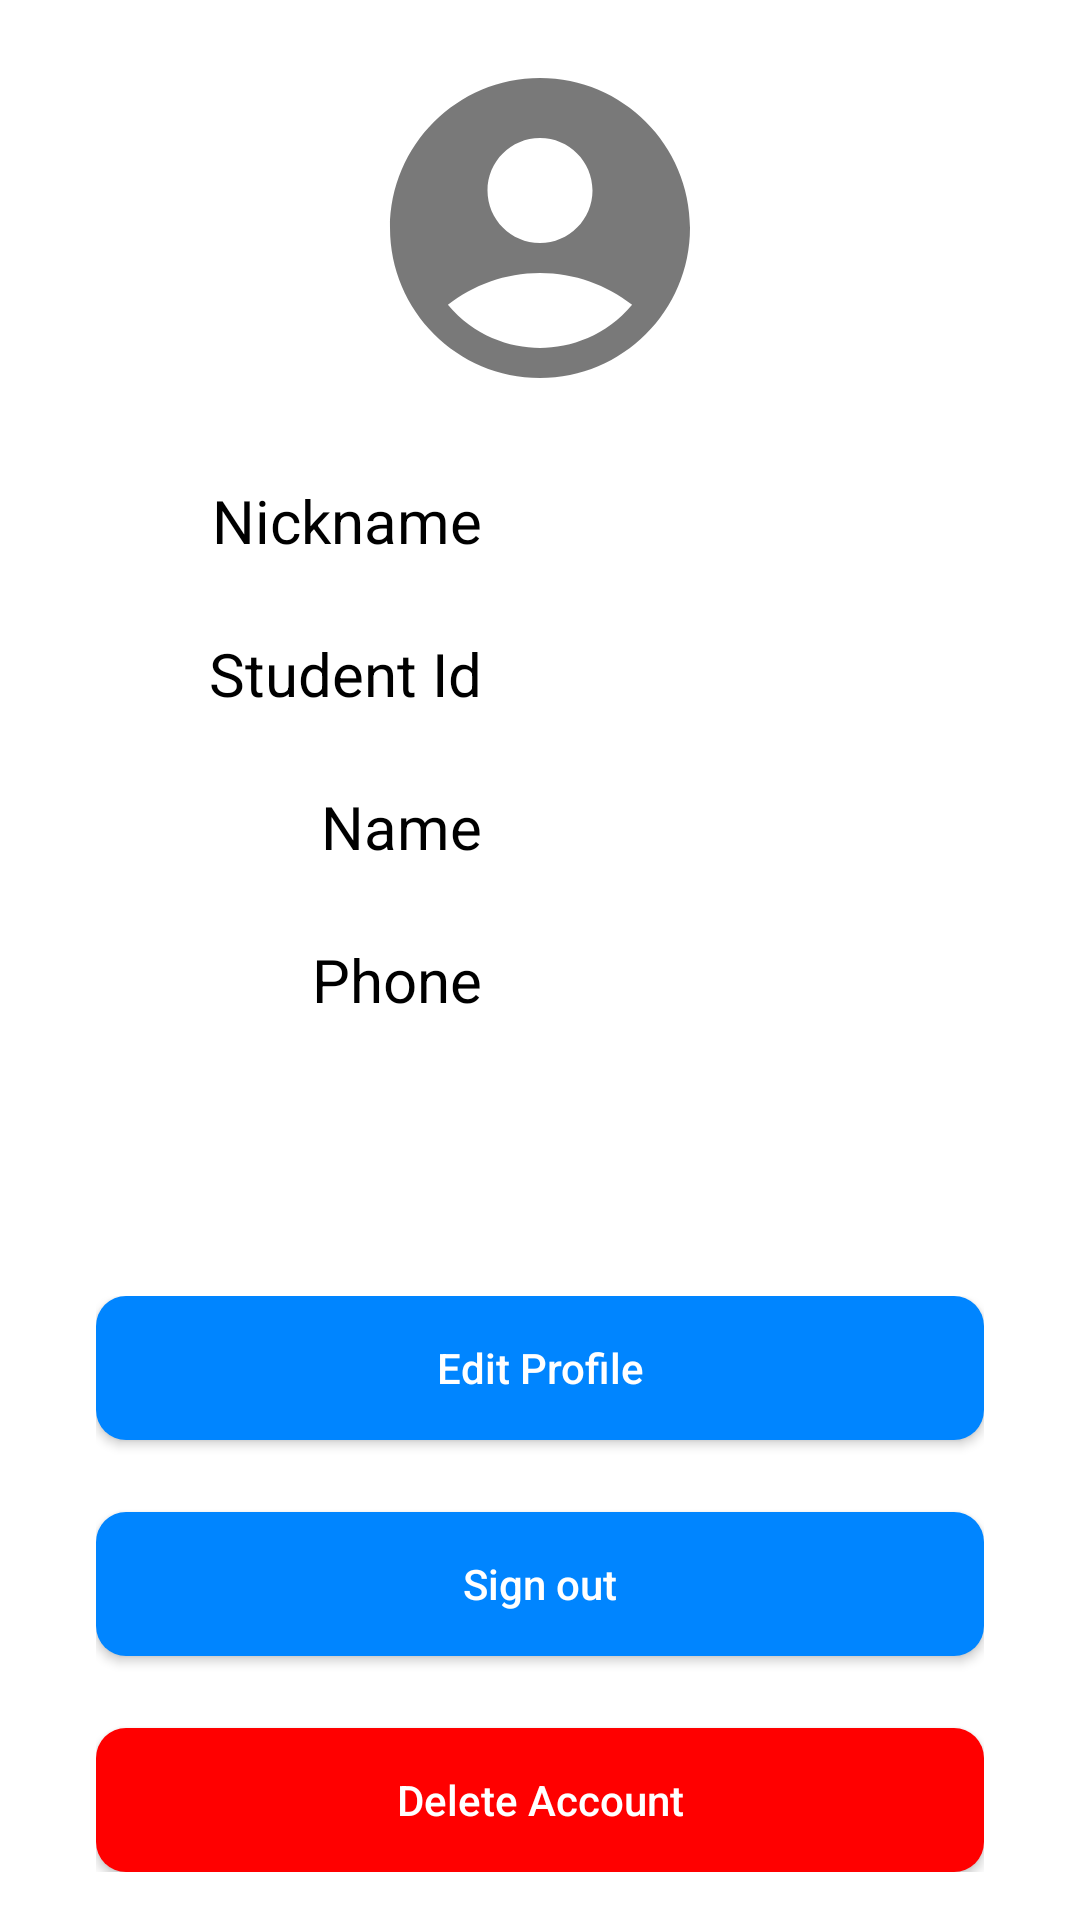

Point at icon controls on the screen. Image size 1080x1920, points as [x,y].
account circle: [540,228]
